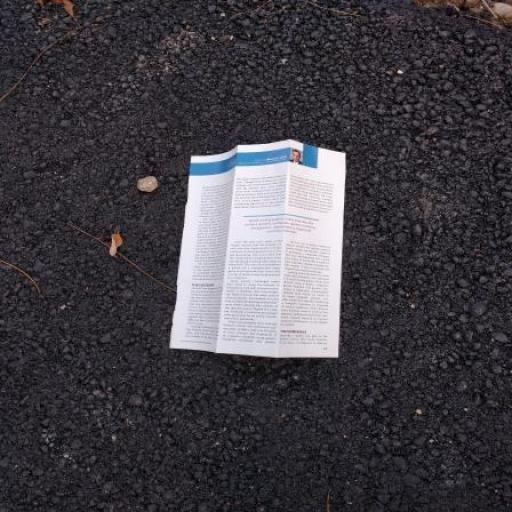paper: (118, 112, 412, 416)
